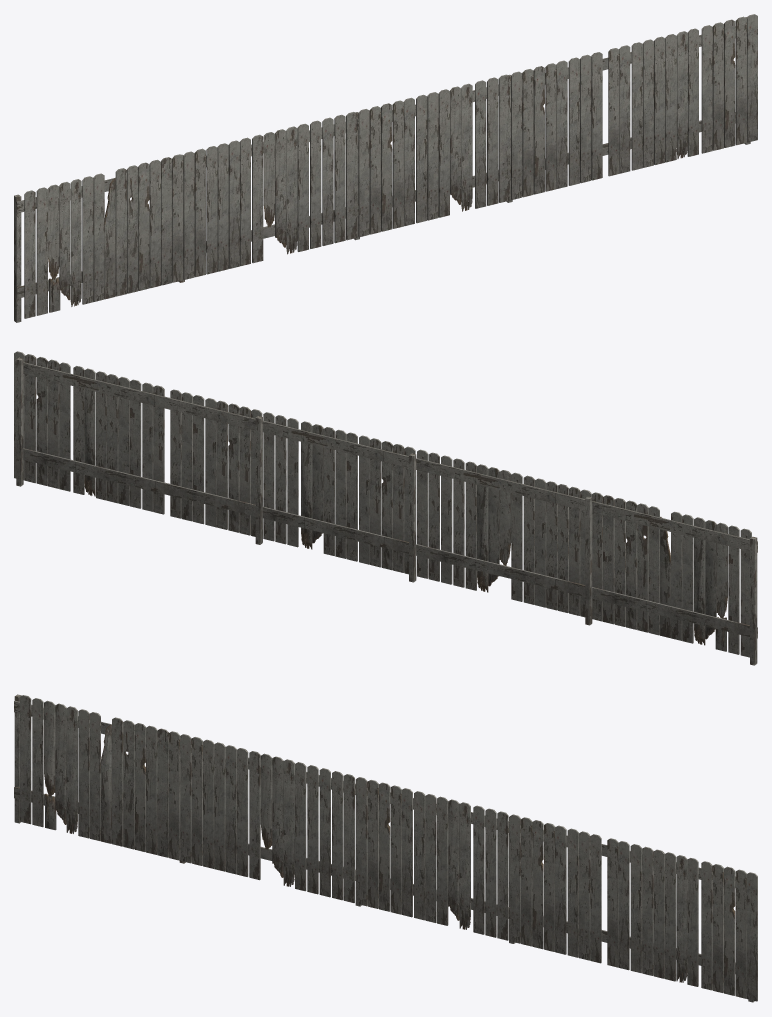
The model's file is right.glb.
The picture shows the model from 3 angles, top to bottom: view 1: azimuth 30°, elevation 25°; view 2: azimuth 150°, elevation 25°; view 3: azimuth 330°, elevation 25°; orthographic projection.
Visible parts, largest first — view 1: GroundBeam1_game; view 2: GroundBeam1_game; view 3: GroundBeam1_game.
Part boxes in pixels (<box>): GroundBeam1_game: <box>14,14,757,322</box>; GroundBeam1_game: <box>14,351,757,665</box>; GroundBeam1_game: <box>14,694,757,1002</box>.
Size of the model in its own units: 13.1 by 2.19 by 0.1311.
1 material, 1 textured.
